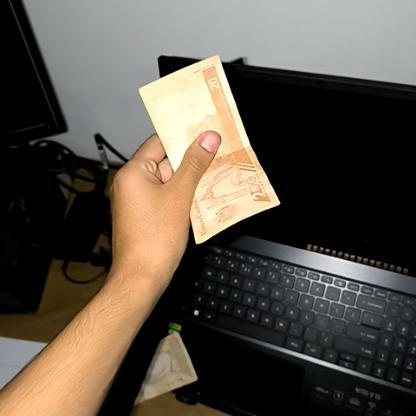twenty-back-vef: (138, 54, 280, 244)
